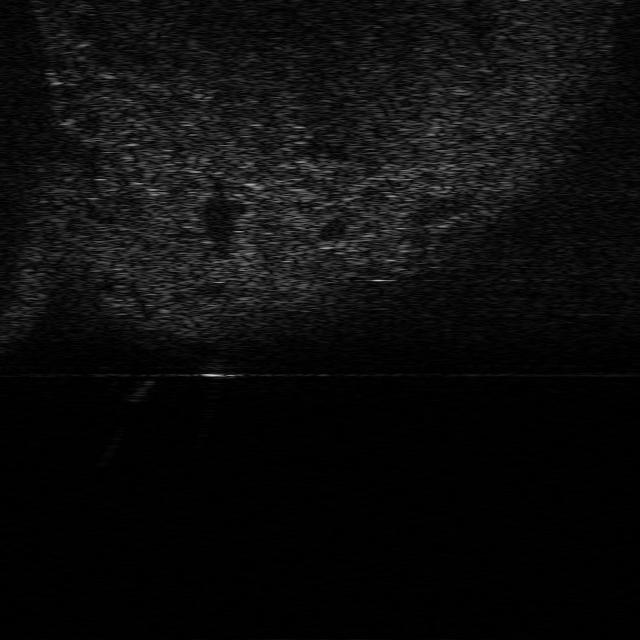cube: (195, 356, 236, 382), (123, 379, 155, 404)
